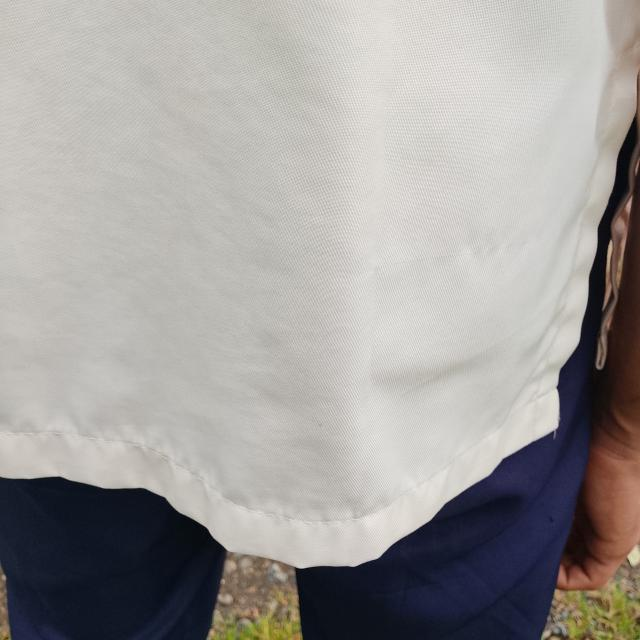education_male_uniform: (2, 0, 640, 592)
